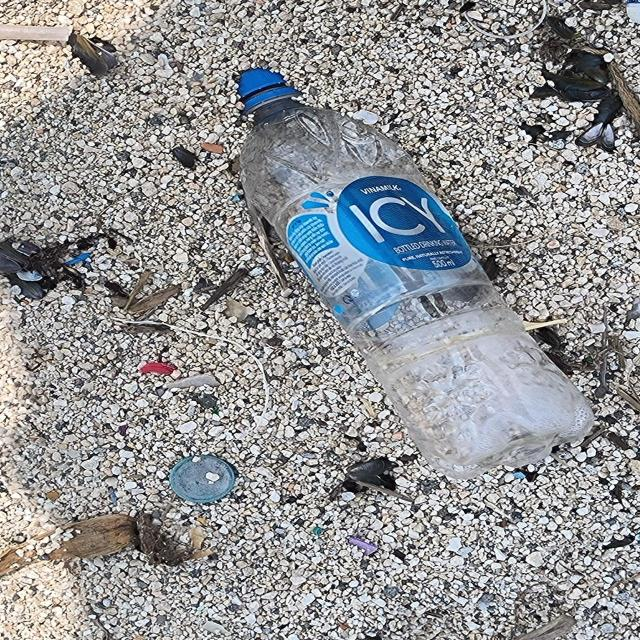litter: (237, 69, 593, 479), (169, 454, 236, 503)
